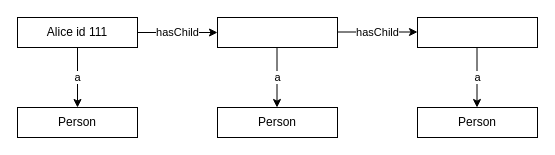
Some shapes in this 555 by 155 pixel diagram are drawn without their labels. Each missing label, with the centre of its shape:
Bob id 222: point 277,32
Charlie id 333: point 477,32
